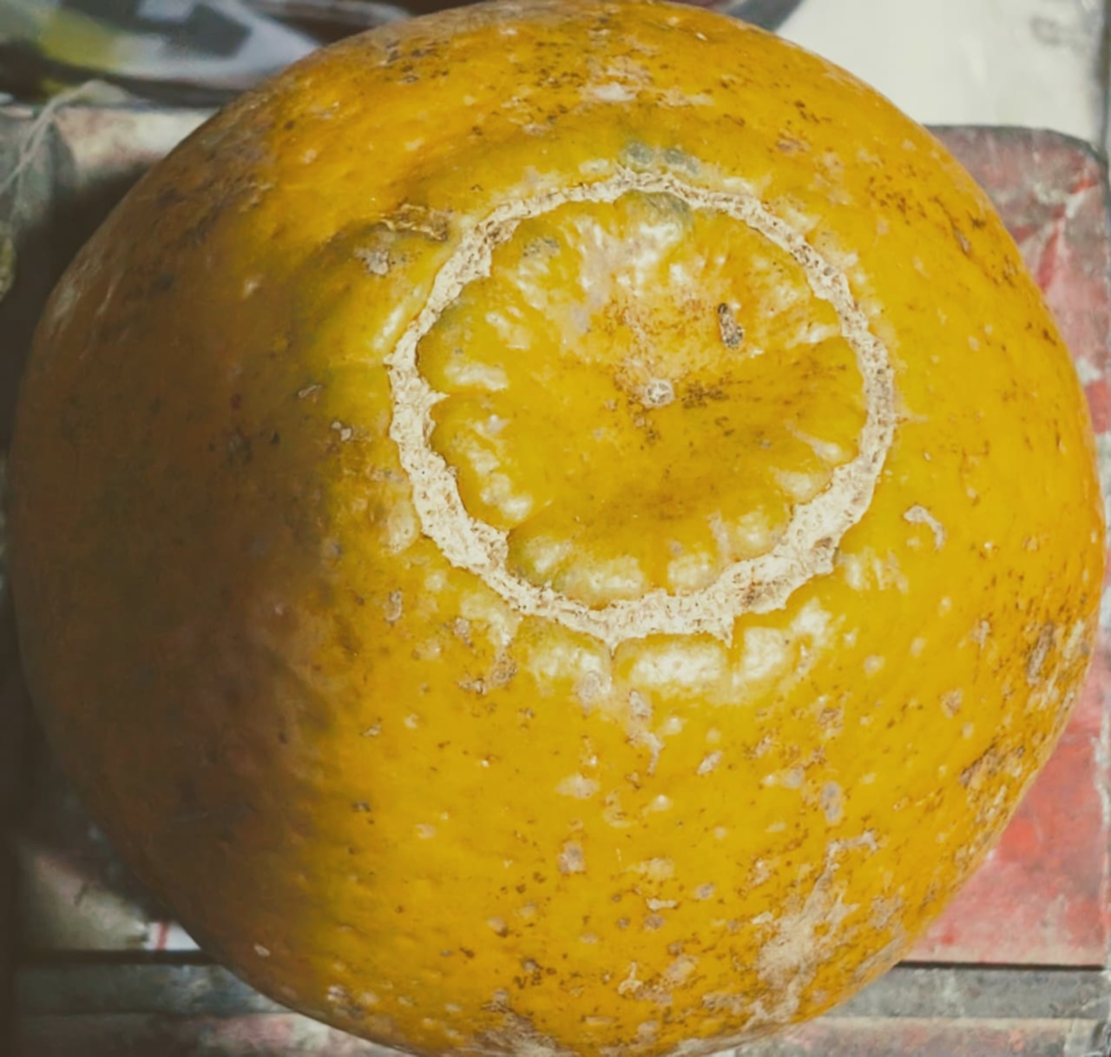orange: (151, 248, 976, 926)
